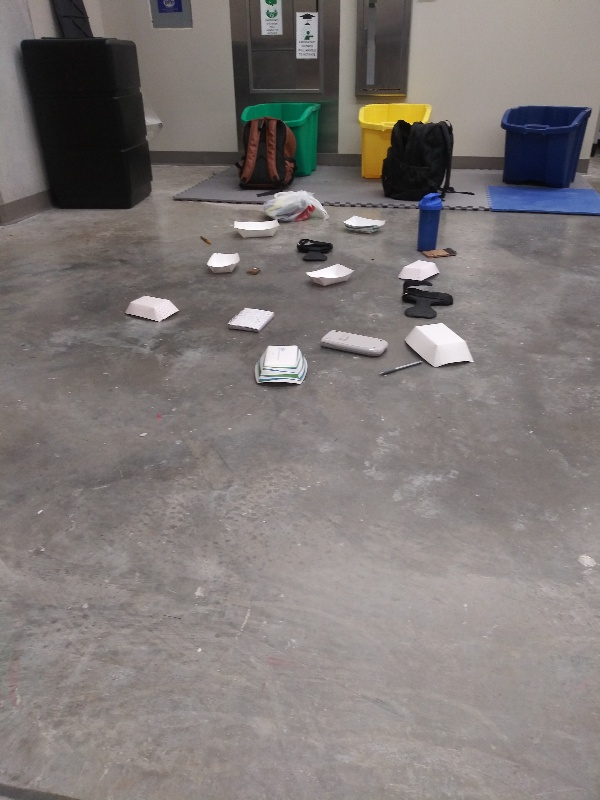plate: (402, 321, 478, 371), (250, 342, 314, 387), (123, 292, 181, 325), (302, 258, 357, 288), (229, 216, 283, 244), (396, 256, 443, 285), (340, 212, 390, 237), (203, 249, 243, 277)
